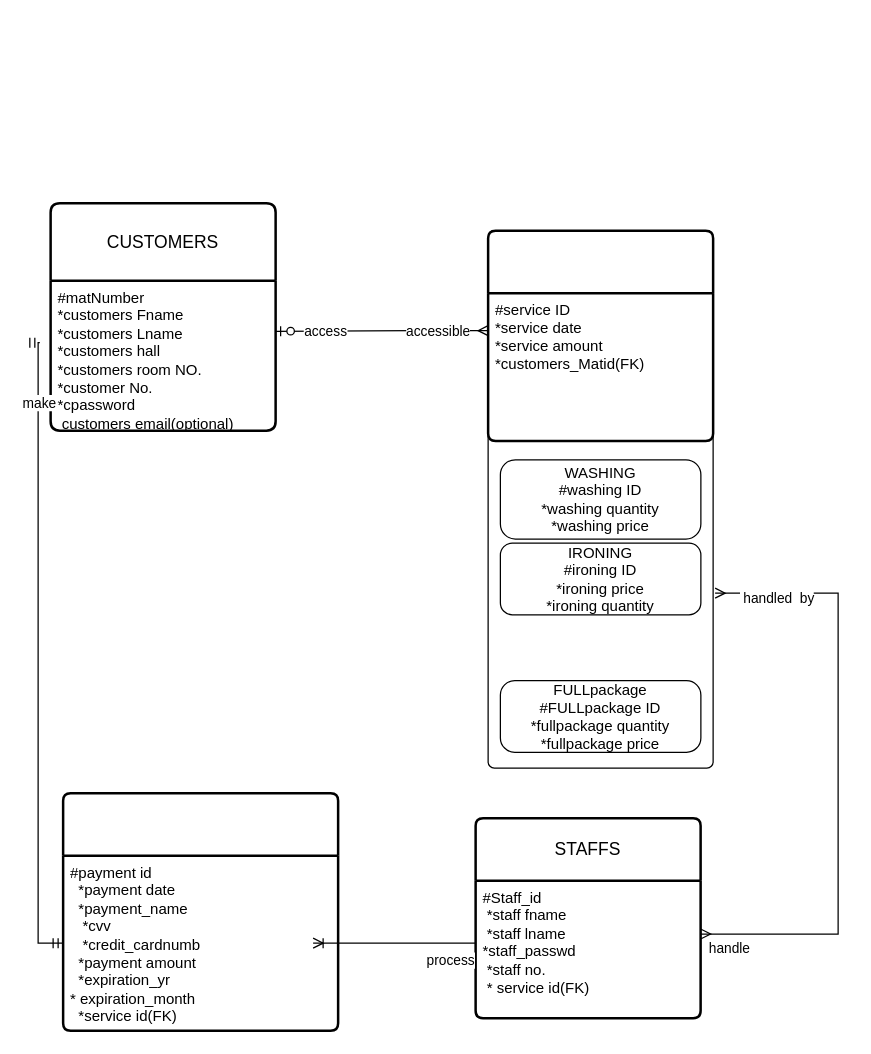
Image size: 871x1054. Some labels were removed from this diagram. Each missing label, with the box of its shape:
PAYMENTS: (61, 791, 339, 1031)
SERVICES: (486, 229, 714, 442)
